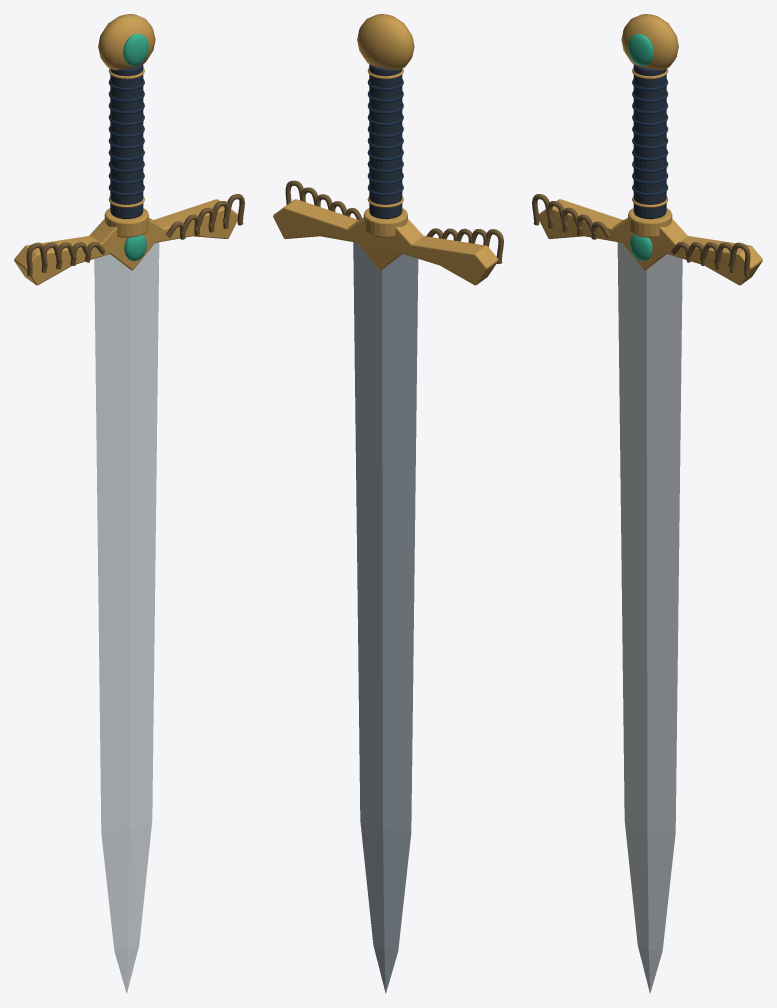
The model's file is EDH_Heinrich_Sword.glb.
3 views of the same model, side by side, from view 1: azimuth 30°, elevation 25°; view 2: azimuth 150°, elevation 25°; view 3: azimuth 330°, elevation 25° (orthographic).
Parts seen in each view (by area): view 1: Heinrich | diamond blade, Heinrich | crossguard, Heinrich | leather grip, Heinrich | pommel, Heinrich | grip collar, Heinrich | pommel jade; view 2: Heinrich | diamond blade, Heinrich | crossguard, Heinrich | leather grip, Heinrich | pommel, Heinrich | grip collar; view 3: Heinrich | diamond blade, Heinrich | crossguard, Heinrich | leather grip, Heinrich | pommel, Heinrich | grip collar, Heinrich | pommel jade.
Part boxes in pixels (bbox=[...]): Heinrich | diamond blade: bbox=[94, 242, 159, 993]; Heinrich | crossguard: bbox=[14, 199, 237, 285]; Heinrich | leather grip: bbox=[110, 64, 143, 218]; Heinrich | pommel: bbox=[98, 14, 155, 70]; Heinrich | grip collar: bbox=[104, 208, 148, 237]; Heinrich | pommel jade: bbox=[123, 34, 148, 65]; Heinrich | diamond blade: bbox=[353, 242, 418, 993]; Heinrich | crossguard: bbox=[273, 199, 498, 285]; Heinrich | leather grip: bbox=[369, 64, 402, 218]; Heinrich | pommel: bbox=[357, 14, 414, 70]; Heinrich | grip collar: bbox=[363, 208, 407, 237]; Heinrich | diamond blade: bbox=[617, 242, 682, 993]; Heinrich | crossguard: bbox=[539, 199, 762, 285]; Heinrich | leather grip: bbox=[633, 64, 666, 218]; Heinrich | pommel: bbox=[621, 14, 678, 70]; Heinrich | grip collar: bbox=[628, 208, 672, 237]; Heinrich | pommel jade: bbox=[628, 34, 653, 65].
Bounding box in the file's own units: 0.2727 × 1.17 × 0.05.
